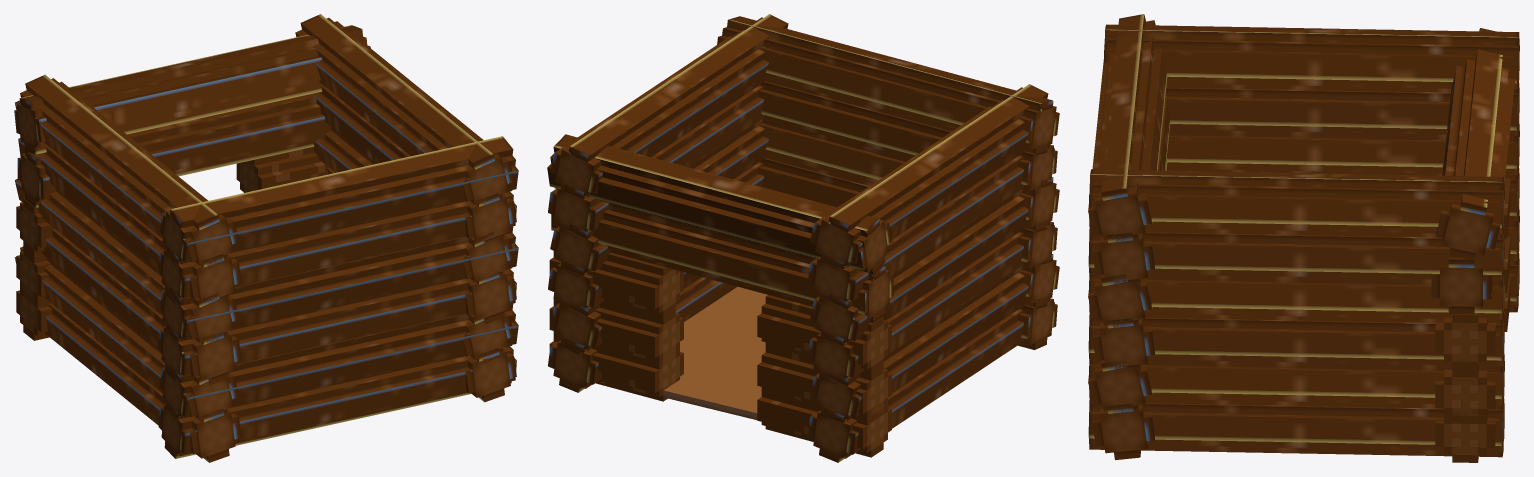
The model's file is home.fbx.
The picture shows the model from 3 angles, left to right: view 1: azimuth 30°, elevation 25°; view 2: azimuth 150°, elevation 25°; view 3: azimuth 270°, elevation 25°; orthographic projection. The views are drawn at different scales.
Visible parts, largest first — view 1: cube_59, cube_48, cube_38, cube_58, cube_53, cube_33, cube_43, cube_103, cube_89, cube_29, cube_98, cube_101 (+44 smaller); view 2: cube_130, cube_97, cube_57, cube_104, cube_102, cube_89, cube_29, cube_56, cube_52, cube_59, cube_96, cube_83 (+55 smaller); view 3: cube_22, cube_27, cube_87, cube_17, cube_7, cube_12, cube_1, cube_82, cube_67, cube_26, cube_86, cube_29 (+35 smaller).
Part boxes in pixels (<box>): cube_59: <box>170,136,513,228</box>; cube_48: <box>181,321,518,416</box>; cube_38: <box>181,243,518,339</box>; cube_58: <box>181,166,518,261</box>; cube_53: <box>180,203,516,298</box>; cube_33: <box>180,281,516,375</box>; cube_43: <box>180,358,516,453</box>; cube_103: <box>35,45,370,141</box>; cube_89: <box>25,74,219,230</box>; cube_29: <box>300,14,494,169</box>; cube_98: <box>39,113,331,199</box>; cube_101: <box>17,36,367,148</box>; cube_130: <box>601,286,767,419</box>; cube_97: <box>551,214,868,314</box>; cube_57: <box>717,35,1035,143</box>; cube_104: <box>553,134,879,237</box>; cube_102: <box>547,163,867,270</box>; cube_89: <box>828,84,1048,232</box>; cube_29: <box>568,14,788,162</box>; cube_56: <box>722,27,1056,149</box>; cube_52: <box>758,89,1032,185</box>; cube_59: <box>727,16,1053,111</box>; cube_96: <box>603,210,889,318</box>; cube_83: <box>846,148,1054,301</box>; cube_22: <box>1088,240,1502,274</box>; cube_27: <box>1089,193,1502,227</box>; cube_87: <box>1104,48,1517,83</box>; cube_17: <box>1089,279,1502,313</box>; cube_7: <box>1089,364,1502,398</box>; cube_12: <box>1088,326,1502,360</box>; cube_1: <box>1088,411,1502,445</box>; cube_82: <box>1165,96,1517,130</box>; cube_67: <box>1166,135,1517,168</box>; cube_26: <box>1089,183,1504,234</box>; cube_86: <box>1104,38,1519,89</box>; cube_29: <box>1090,169,1504,190</box>.
Bounding box in the file's own units: 314 × 219 × 315.
Materials: 3 (3 with a texture image).
